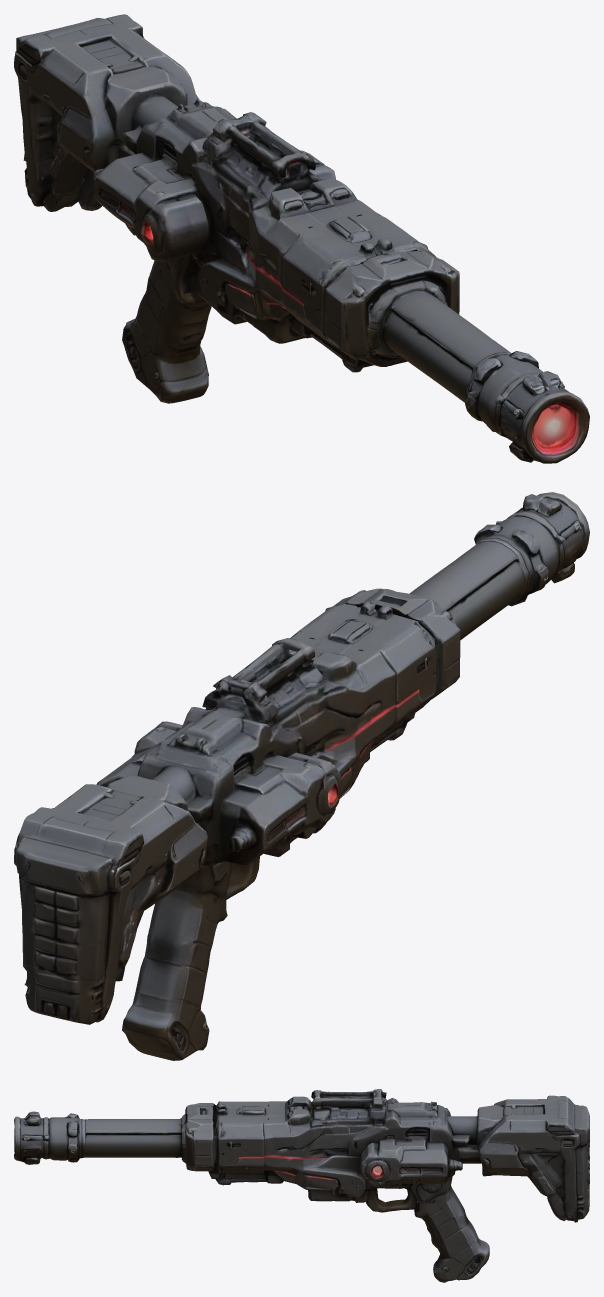
File: leader_cannon.glb
3 renders of one model, top to bottom at view 1: azimuth 30°, elevation 25°; view 2: azimuth 150°, elevation 25°; view 3: azimuth 270°, elevation 25°, orthographic. The views are drawn at different scales.
Visible parts, largest first — view 1: tripo_node_67c2df3c-caff-4c42-9456-7a9c636b4dd5; view 2: tripo_node_67c2df3c-caff-4c42-9456-7a9c636b4dd5; view 3: tripo_node_67c2df3c-caff-4c42-9456-7a9c636b4dd5.
Part boxes in pixels (bbox=[...]): tripo_node_67c2df3c-caff-4c42-9456-7a9c636b4dd5: bbox=[14, 14, 589, 463]; tripo_node_67c2df3c-caff-4c42-9456-7a9c636b4dd5: bbox=[14, 492, 589, 1060]; tripo_node_67c2df3c-caff-4c42-9456-7a9c636b4dd5: bbox=[14, 1089, 589, 1282].
Bounding box in the file's own units: 0.2146 × 0.3549 × 0.9998.
Materials: 1 (1 with a texture image).
